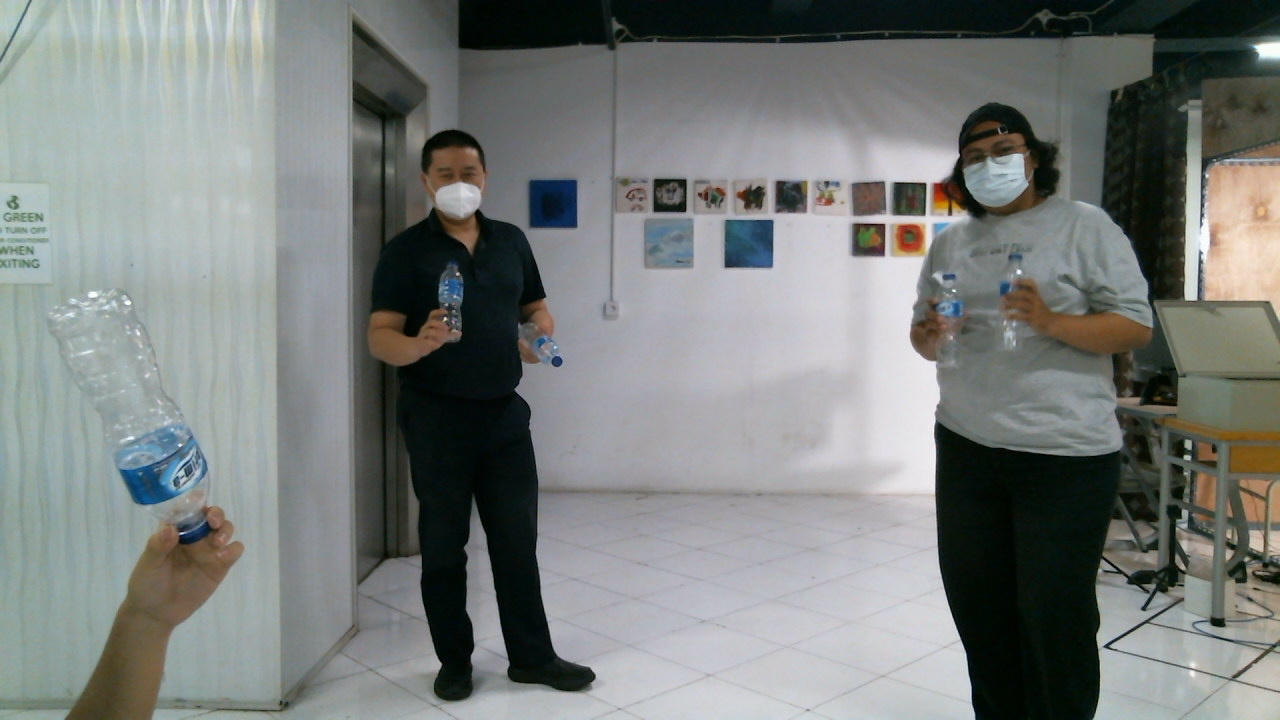Bottle: (49, 290, 210, 545)
